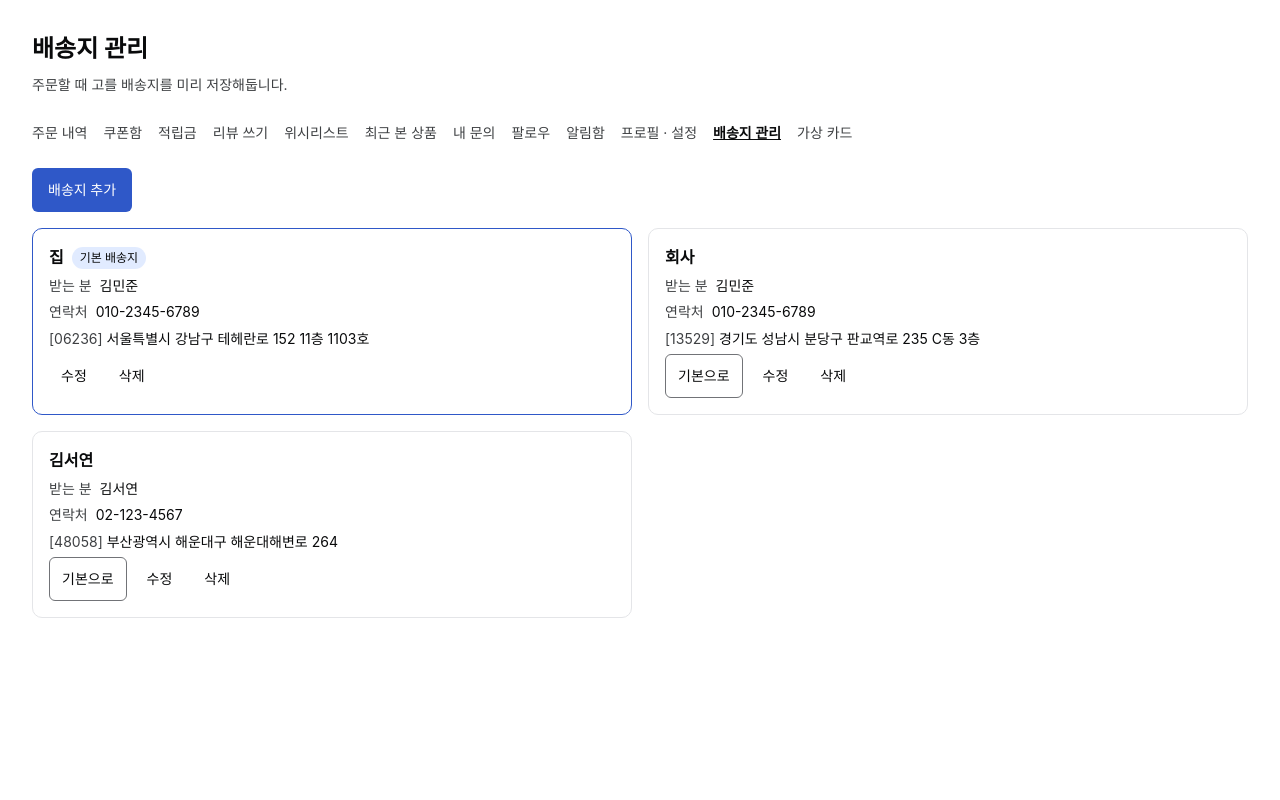
Test: deleting an address (F5) › names the address it is about to delete
Expected: the list named "저장한 배송지" is shown, [32,228,1248,618]
Step 1. Click the button "삭제" below "13529" → (833, 376), box [808,354,858,398]
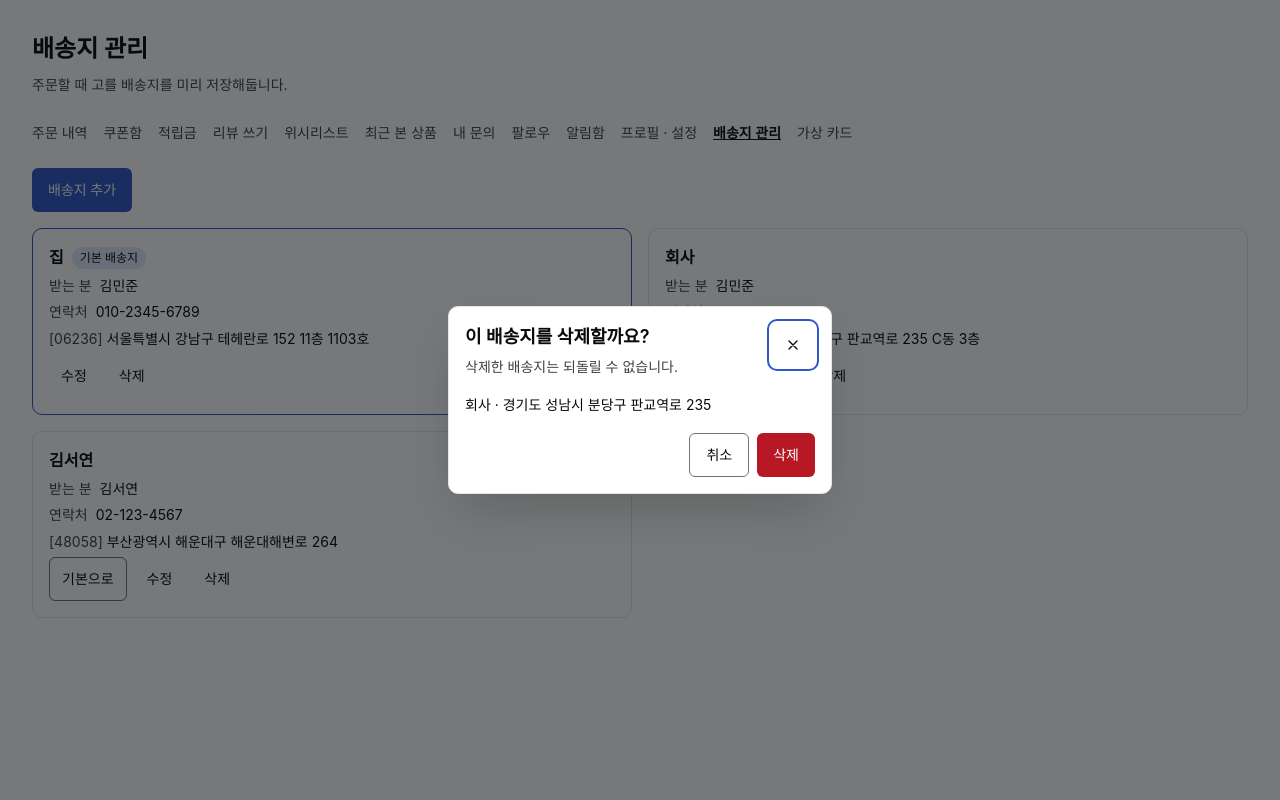
Expected: the text "회사 · 경기도 성남시 분당구 판교역로 235" is shown, [465,396,711,413]
